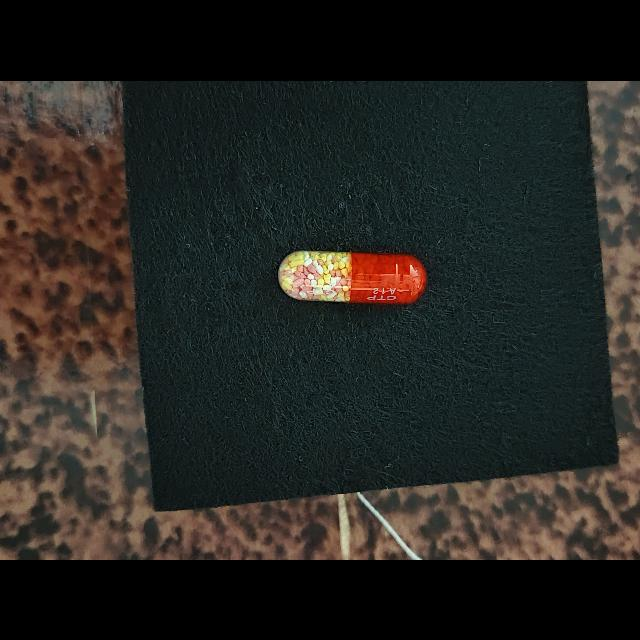Intact Capsule: (278, 250, 427, 304)
